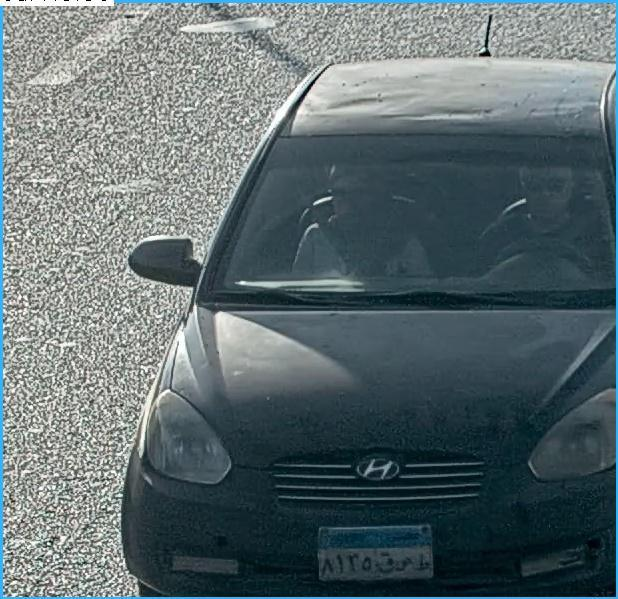windshield: (181, 122, 617, 320)
